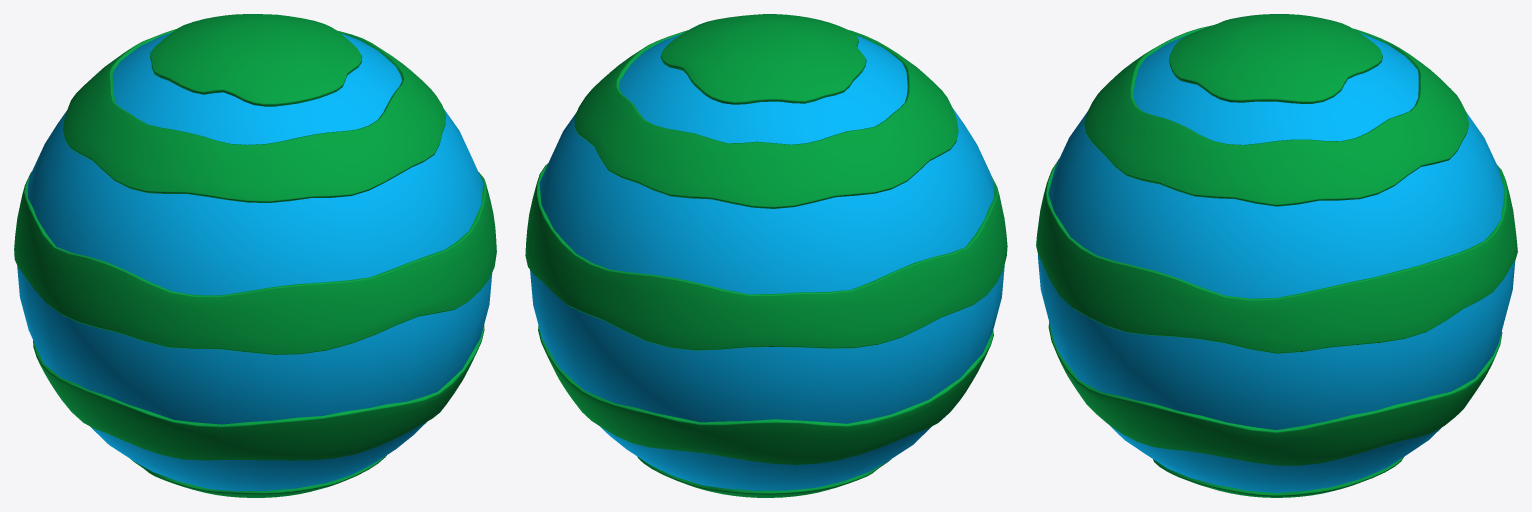
Rendered from Public_17_Planet_3.glb.
3 renders of one model, left to right at view 1: azimuth 30°, elevation 25°; view 2: azimuth 150°, elevation 25°; view 3: azimuth 270°, elevation 25°, orthographic.
Visible parts, largest first — view 1: Public_17_Planet_3; view 2: Public_17_Planet_3; view 3: Public_17_Planet_3.
Part boxes in pixels (bbox=[...]): Public_17_Planet_3: bbox=[14, 14, 496, 497]; Public_17_Planet_3: bbox=[525, 14, 1007, 497]; Public_17_Planet_3: bbox=[1036, 14, 1517, 497].
Bounding box in the file's own units: 6.41 × 6.38 × 6.4.
1 material, 1 textured.
